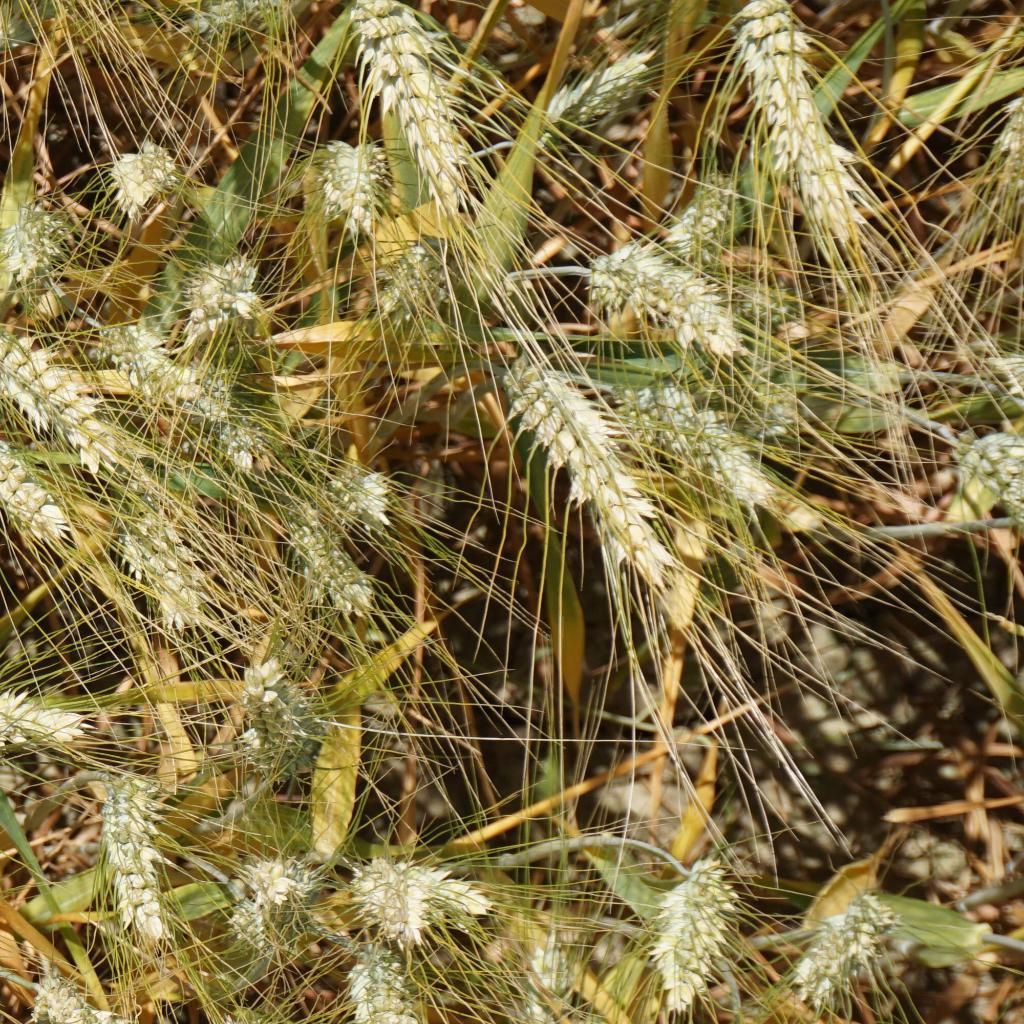0-0: (504, 335, 652, 570), (733, 0, 866, 234), (356, 0, 475, 201), (73, 768, 179, 944), (585, 241, 738, 358), (623, 382, 768, 500), (651, 850, 735, 1012), (86, 312, 210, 403), (227, 654, 321, 760), (172, 234, 271, 329), (118, 500, 199, 614), (354, 226, 448, 323), (283, 490, 365, 601), (655, 157, 745, 257), (311, 124, 392, 230), (0, 304, 73, 416), (0, 192, 78, 291), (809, 892, 884, 992), (543, 52, 647, 123), (103, 120, 183, 211), (0, 420, 62, 536), (347, 951, 442, 1024), (347, 844, 423, 934), (237, 844, 331, 911), (516, 925, 577, 1024), (325, 456, 400, 534), (956, 420, 1024, 506), (416, 859, 496, 930), (0, 684, 75, 755), (204, 405, 274, 480), (729, 374, 804, 429), (29, 972, 103, 1024), (216, 891, 278, 951), (733, 263, 792, 314), (91, 996, 155, 1024)
